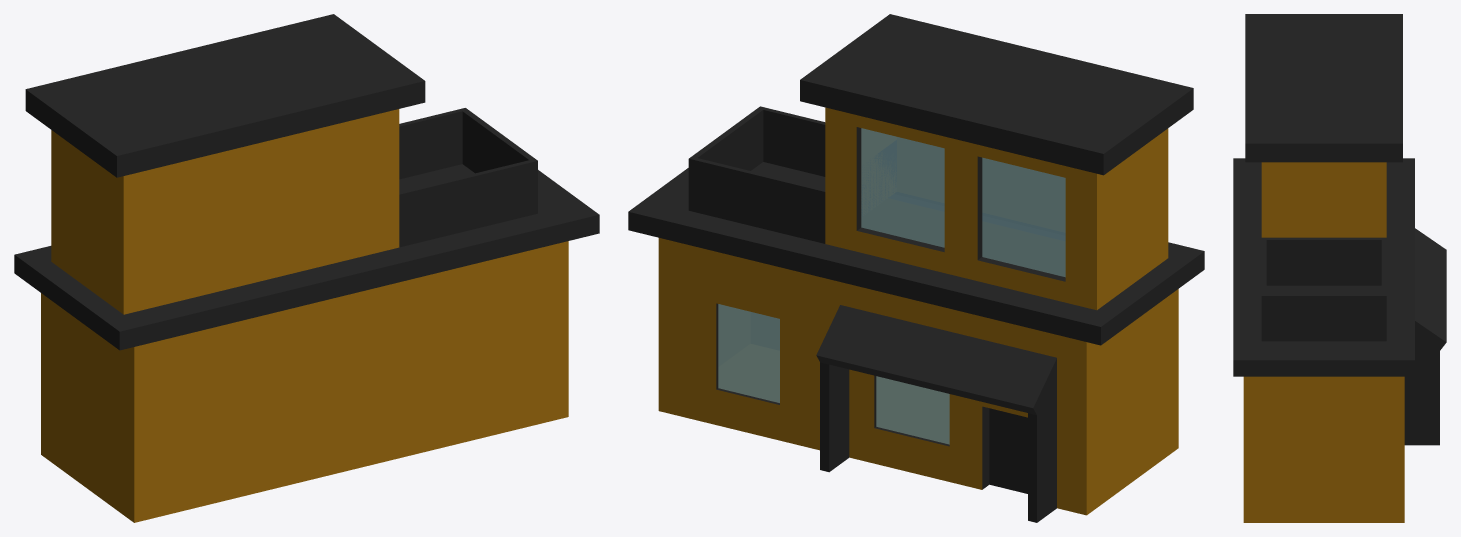
The model's file is wide restaurant.fbx.
The picture shows the model from 3 angles, left to right: view 1: azimuth 30°, elevation 25°; view 2: azimuth 150°, elevation 25°; view 3: azimuth 270°, elevation 25°; orthographic projection. The views are drawn at different scales.
Parts seen in each view (by area): view 1: restauramt; view 2: restauramt; view 3: restauramt.
Part boxes in pixels (<box>): restauramt: <box>14,14,599,522</box>; restauramt: <box>628,14,1204,522</box>; restauramt: <box>1233,14,1446,522</box>.
Size of the model in its own units: 593 by 437 by 265.
